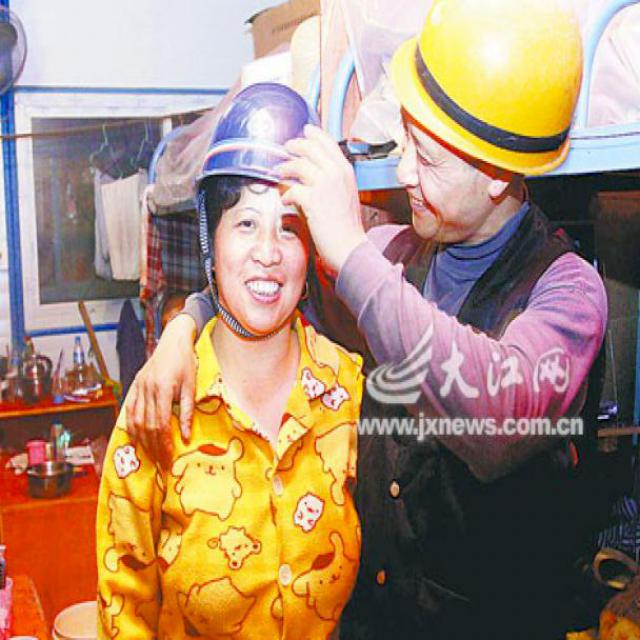helmet: (396, 0, 590, 228), (194, 76, 317, 343)
